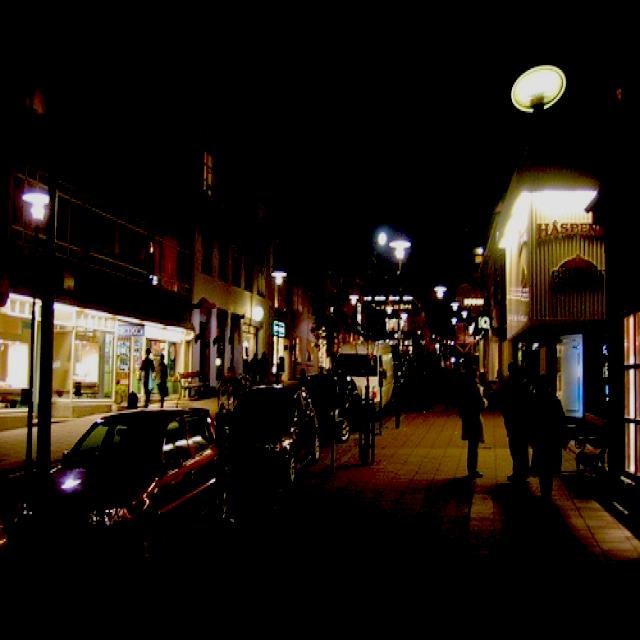Car: (16, 407, 229, 575), (224, 381, 320, 488)
